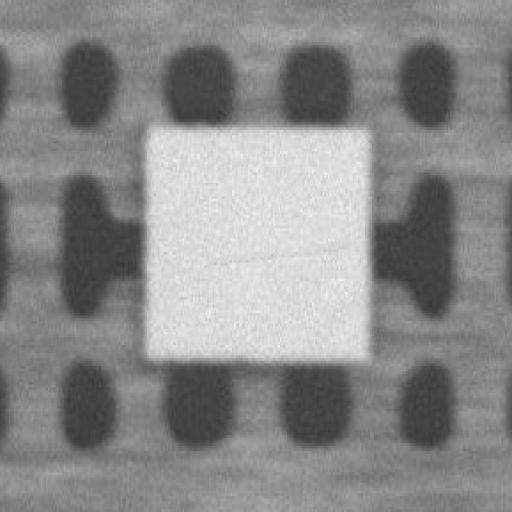DIE_CRACK: (319, 163, 512, 174)
